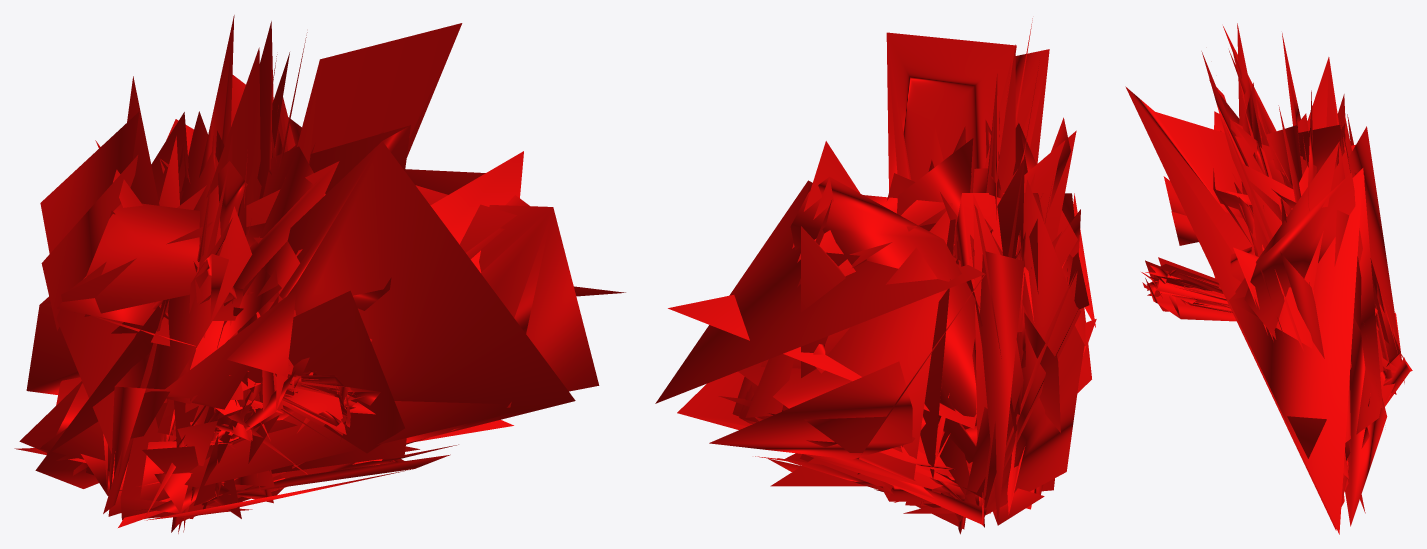
The picture shows the model from 3 angles, left to right: view 1: azimuth 30°, elevation 25°; view 2: azimuth 150°, elevation 25°; view 3: azimuth 270°, elevation 25°; orthographic projection. The views are drawn at different scales.
Visible parts, largest first — view 1: Renderer Node; view 2: Renderer Node; view 3: Renderer Node.
Part boxes in pixels (left/top/right/bottom): Renderer Node: left=14, top=15, right=625, bottom=533; Renderer Node: left=655, top=18, right=1096, bottom=534; Renderer Node: left=1125, top=23, right=1412, bottom=534.
Bounding box in the file's own units: 0.307 × 0.3025 × 0.1856.
Materials: 1 (1 with a texture image).
